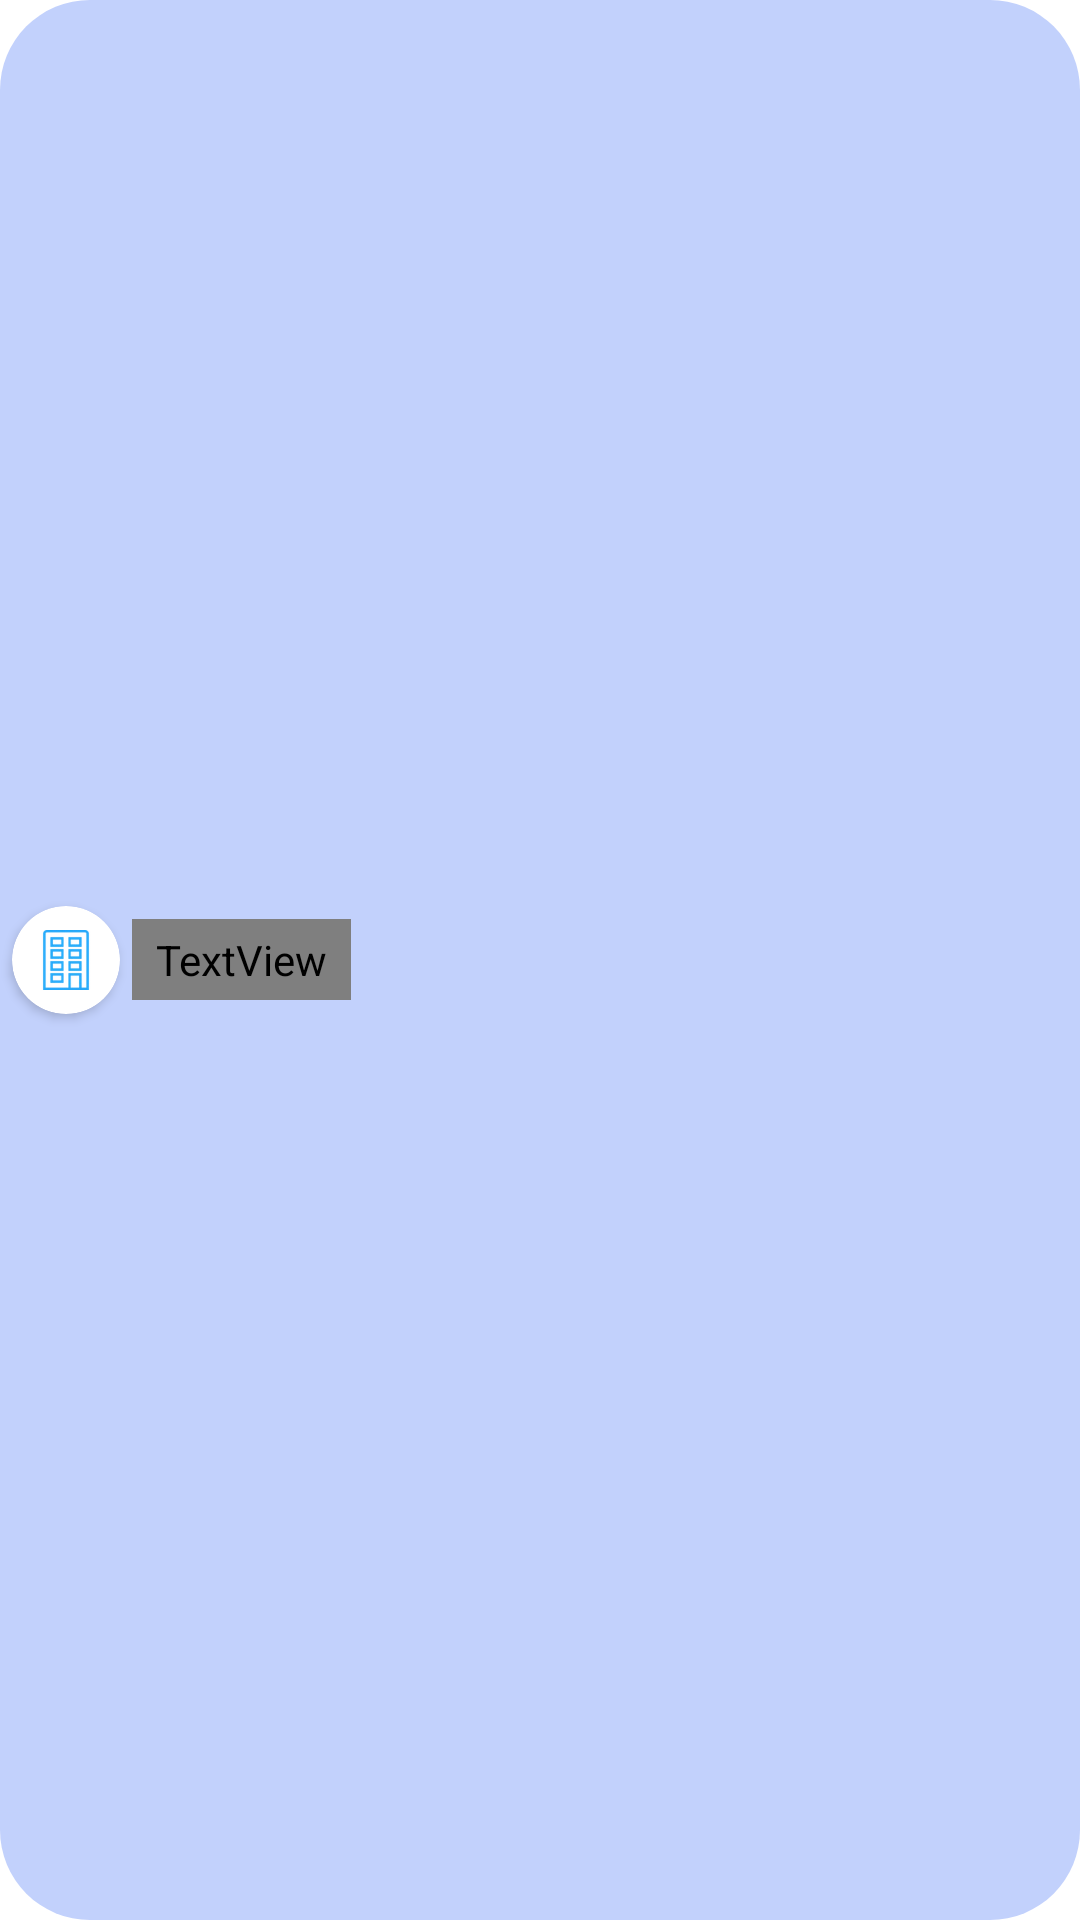

Where to tap for icons on this 1080*1920 app screen, as (x,y):
apartment: (66,960)
